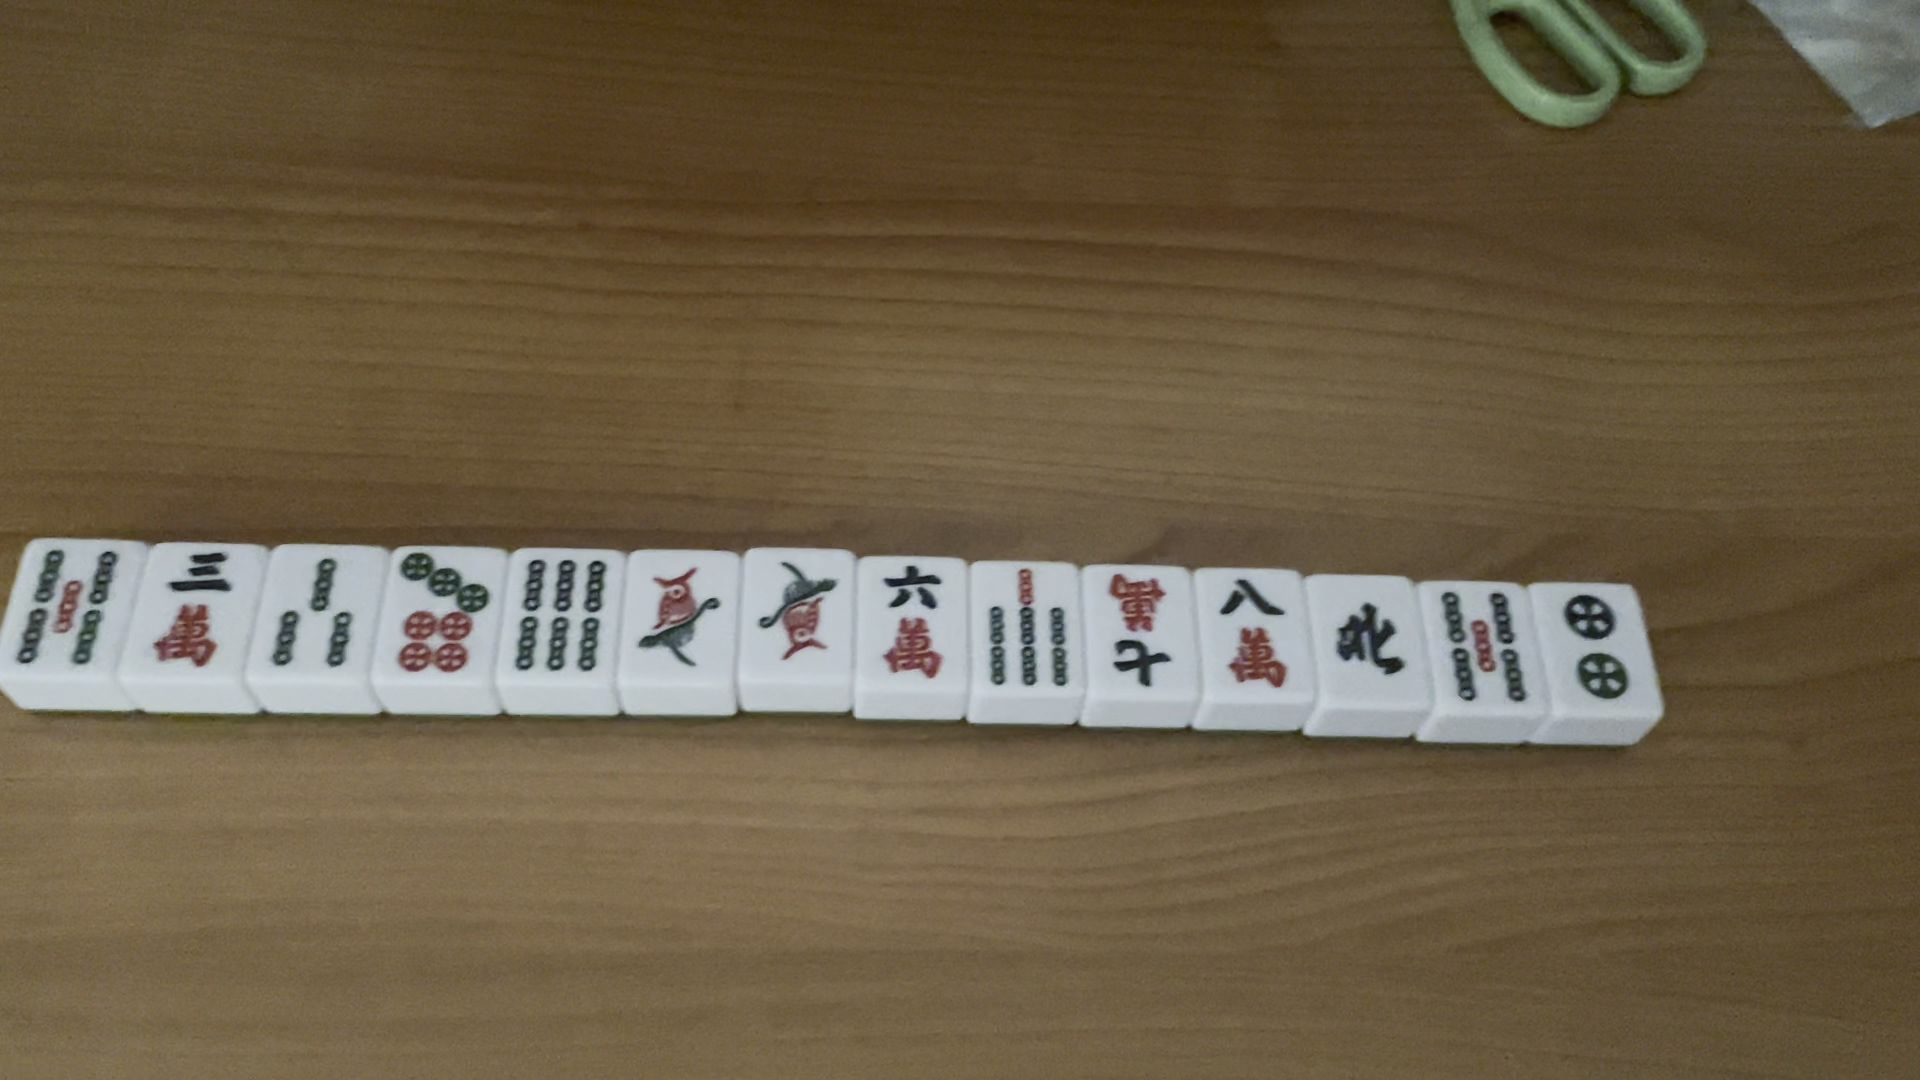b-1: (632, 560, 732, 676), (758, 556, 837, 670)
b-3: (260, 551, 361, 670)
b-5: (13, 546, 123, 670), (1435, 585, 1528, 709)
b-6: (513, 556, 607, 669)
b-7: (978, 568, 1073, 694)
c-3: (146, 551, 239, 667)
c-6: (873, 564, 951, 679)
c-7: (1106, 574, 1174, 688)
c-8: (1216, 572, 1302, 696)
d-2: (1563, 589, 1633, 702)
d-7: (382, 550, 493, 676)
honors-north: (1333, 601, 1406, 680)
